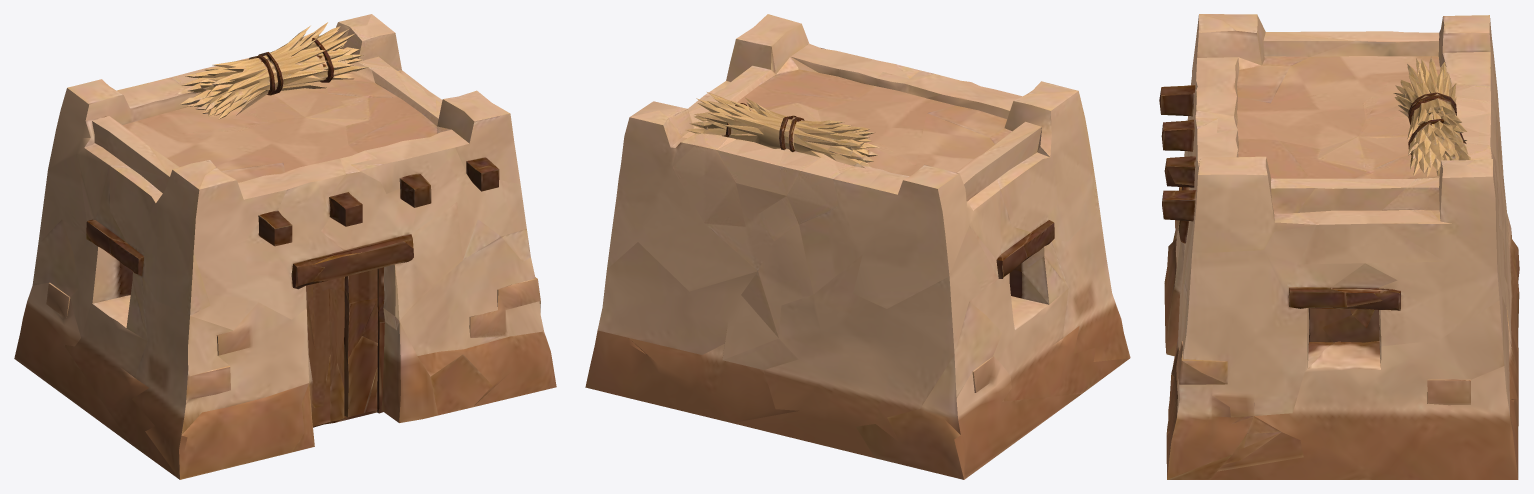
File: egypt-hebrew-house-small.glb
3 renders of one model, left to right at view 1: azimuth 30°, elevation 25°; view 2: azimuth 150°, elevation 25°; view 3: azimuth 270°, elevation 25°, orthographic. The views are drawn at different scales.
Bounding box in the file's own units: 1.9 × 1.41 × 1.47.
1 material, 1 textured.
